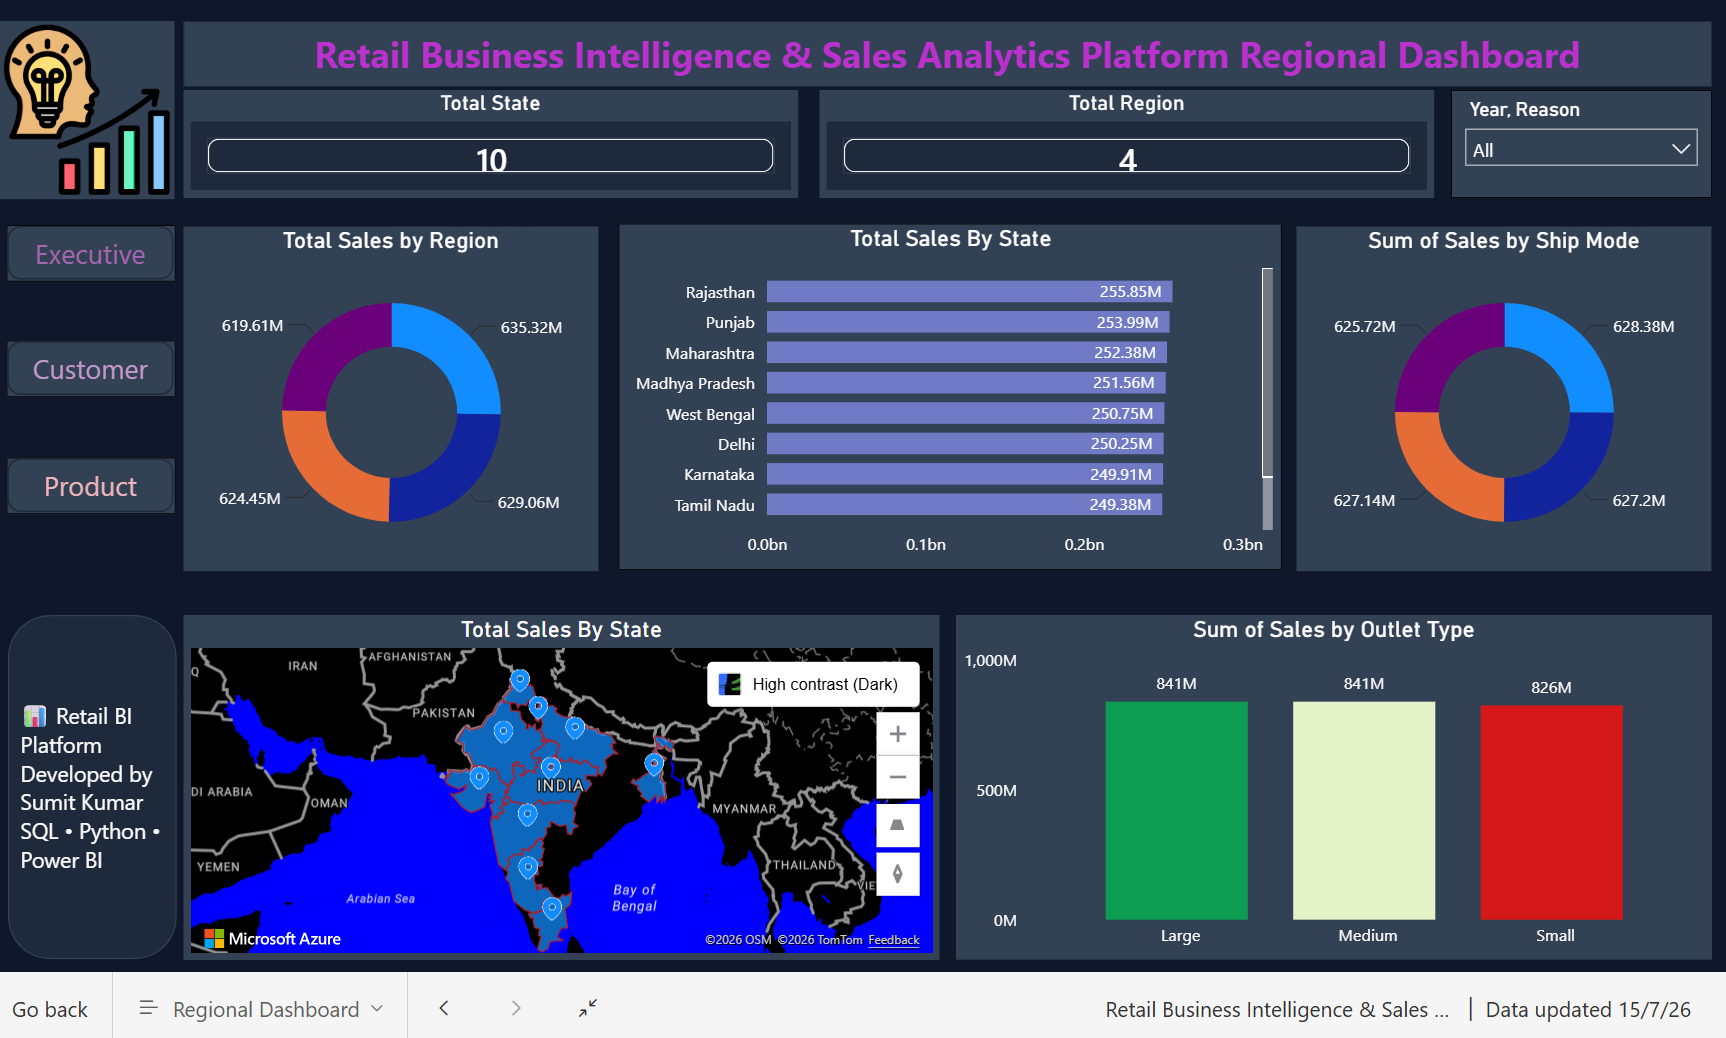

The dashboard page shown, as its layout file describes it:
{"tool":"powerbi","page":{"name":"Regional Dashboard","canvas":[1280,720],"ordinal":3},"visuals":[{"type":"cardVisual","title":"Total State","fields":{"Data":["cleaned_data.States Covered"]},"box":[136.6,66.7,455,79.7],"z":0},{"type":"cardVisual","title":"Total Region","fields":{"Data":["cleaned_data.Regions"]},"box":[608.3,66.7,455.4,79.7],"z":3000},{"type":"azureMap","title":"Total Sales By State","fields":{"Category":["cleaned_data.State"]},"box":[136.6,455.4,560,255.4],"z":9000},{"type":"barChart","title":"Total Sales By State","fields":{"Category":["cleaned_data.State"],"Y":["Sum(cleaned_data.Sales)"]},"box":[458.7,165.9,491.2,257],"z":10000},{"type":"slicer","fields":{"Values":["cleaned_data.Year","cleaned_data.Region"]},"box":[1075.1,66.7,193.6,79.7],"z":11000},{"type":"textbox","box":[136.7,15,1131.7,48.3],"z":13000},{"type":"shape","box":[5,166.7,125,41.7],"z":14000},{"type":"image","box":[0,15,130,131.7],"z":15000},{"type":"shape","box":[5,251.7,125,41.7],"z":16000},{"type":"shape","box":[5,338.3,125,41.7],"z":17000},{"type":"shape","box":[7,455,125,255],"z":18000},{"type":"donutChart","title":"Total Sales by Region","fields":{"Category":["cleaned_data.Region"],"Y":["Sum(cleaned_data.Sales)"]},"box":[136.6,167.5,307.4,255.4],"z":18001},{"type":"columnChart","fields":{"Category":["cleaned_data.Outlet Type"],"Y":["Sum(cleaned_data.Sales)"]},"box":[709.2,455.4,560,255.4],"z":18002},{"type":"donutChart","fields":{"Category":["cleaned_data.Ship Mode"],"Y":["Sum(cleaned_data.Sales)"]},"box":[961.3,167.5,307.4,255.4],"z":18003}]}

Visuals, with their boxes on the page's 1280x720 design canvas (x1, y1, x2, y2). These are canvas units, not pixel positions in the 1726x1038 screenshot, which may show the page scaled, cropped or inside an application window:
"Total State" cardVisual: [137,67,592,146]
"Total Region" cardVisual: [608,67,1064,146]
"Total Sales By State" azureMap: [137,455,697,711]
"Total Sales By State" barChart: [459,166,950,423]
slicer - cleaned_data.Year x cleaned_data.Region: [1075,67,1269,146]
textbox: [137,15,1268,63]
shape: [5,167,130,208]
image: [0,15,130,147]
shape: [5,252,130,293]
shape: [5,338,130,380]
shape: [7,455,132,710]
"Total Sales by Region" donutChart: [137,168,444,423]
columnChart - cleaned_data.Outlet Type x Sum(cleaned_data.Sales): [709,455,1269,711]
donutChart - cleaned_data.Ship Mode x Sum(cleaned_data.Sales): [961,168,1269,423]
